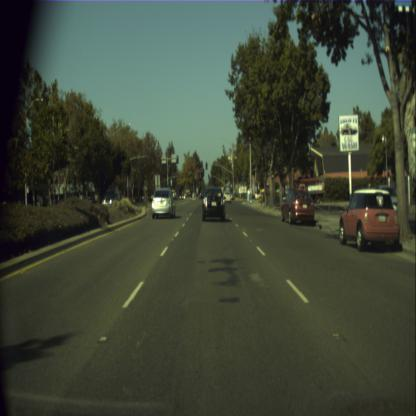Green: (242, 172, 244, 180)
off: (205, 161, 207, 169)
